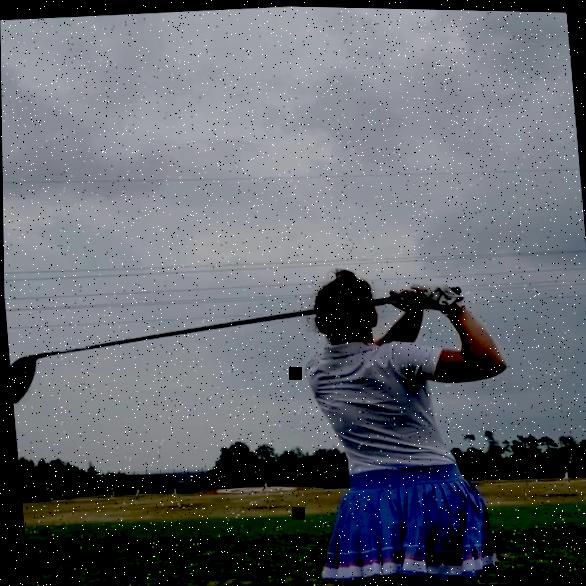ClubHead: (8, 354, 38, 403)
